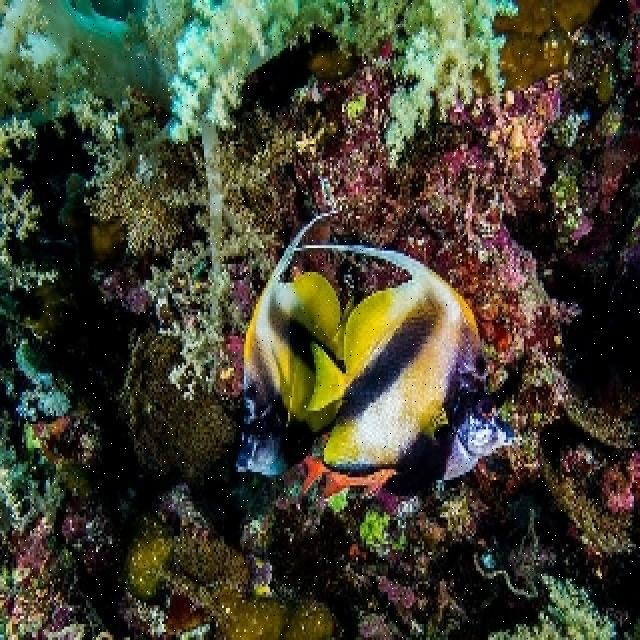aquatic plants: (0, 0, 520, 400), (491, 575, 617, 637)
fish: (297, 243, 511, 494), (236, 208, 354, 477), (301, 460, 393, 502)
reefs: (14, 336, 72, 421)
